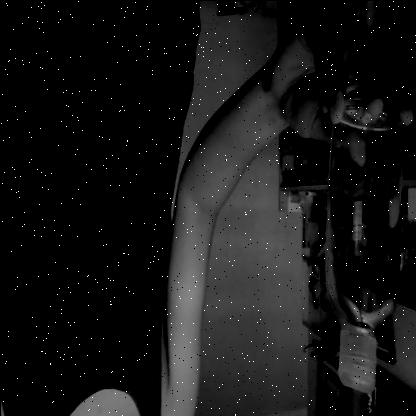Plastic Bottle: (325, 89, 409, 396)
